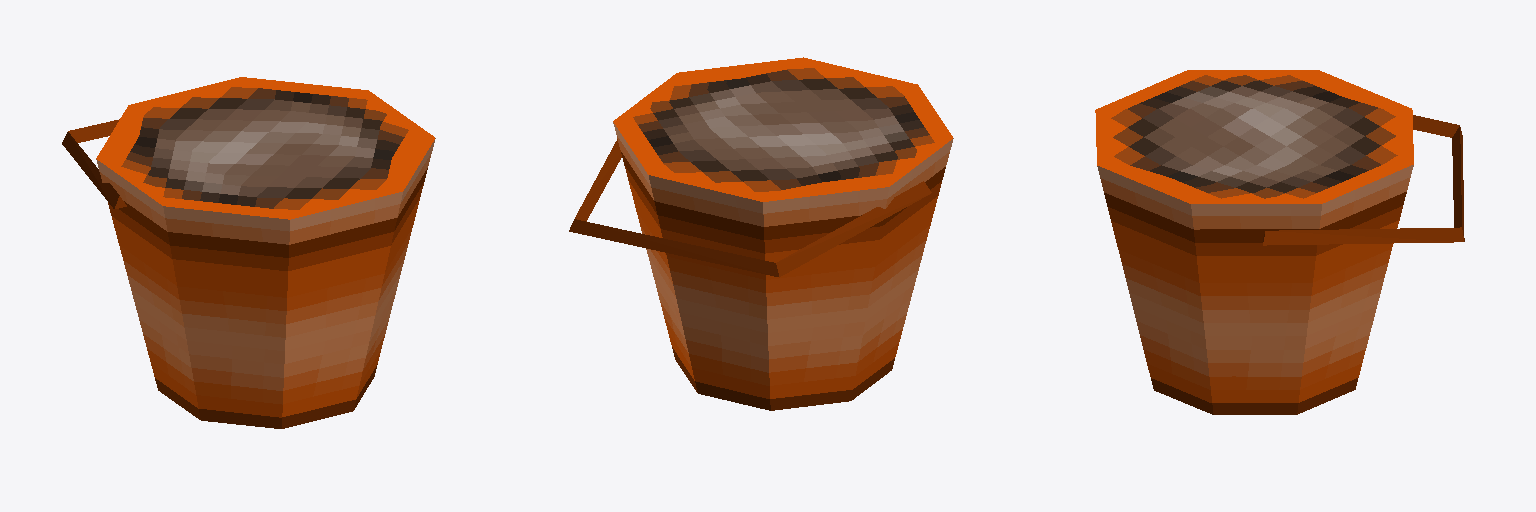
The picture shows the model from 3 angles: view 1: azimuth 30°, elevation 25°; view 2: azimuth 150°, elevation 25°; view 3: azimuth 270°, elevation 25°; orthographic projection.
Parts seen in each view (by area): view 1: RefRep.366.1_RefRep.3; view 2: RefRep.366.1_RefRep.3; view 3: RefRep.366.1_RefRep.3.
Part boxes in pixels (x1,y1,x2,y2): RefRep.366.1_RefRep.3: (62, 77, 435, 428); RefRep.366.1_RefRep.3: (569, 57, 953, 410); RefRep.366.1_RefRep.3: (1095, 70, 1464, 414).
Bounding box in the file's own units: 2.89 × 2.13 × 3.02.
Materials: 1 (1 with a texture image).